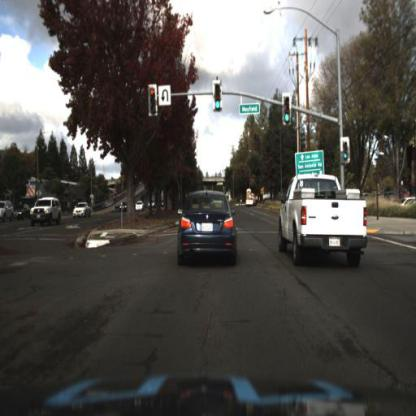car: (277, 171, 369, 267), (176, 186, 238, 265), (28, 197, 64, 232), (68, 199, 90, 222), (16, 201, 35, 224), (13, 204, 30, 226), (72, 203, 94, 219), (132, 198, 146, 216), (245, 190, 257, 207), (246, 188, 256, 208), (118, 200, 130, 215)
trafficLight-Green: (279, 103, 293, 143), (212, 82, 226, 121), (343, 138, 355, 178)
trafficLight-RedLeft: (147, 77, 163, 123)
